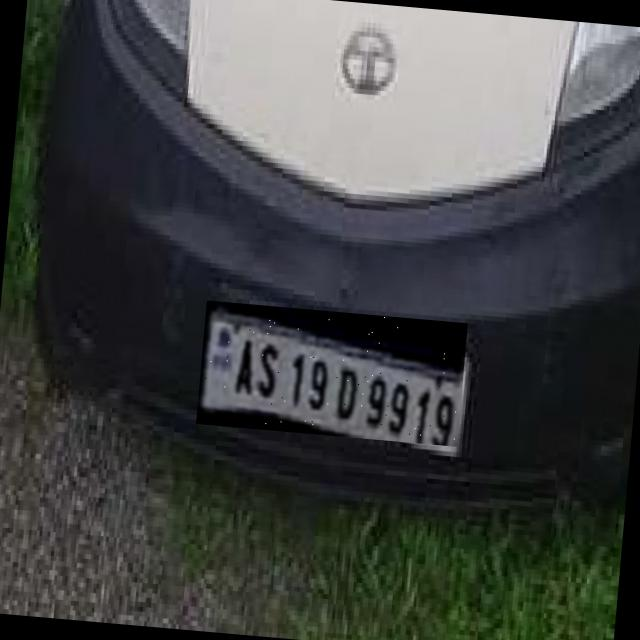Plate: (197, 302, 469, 448)
